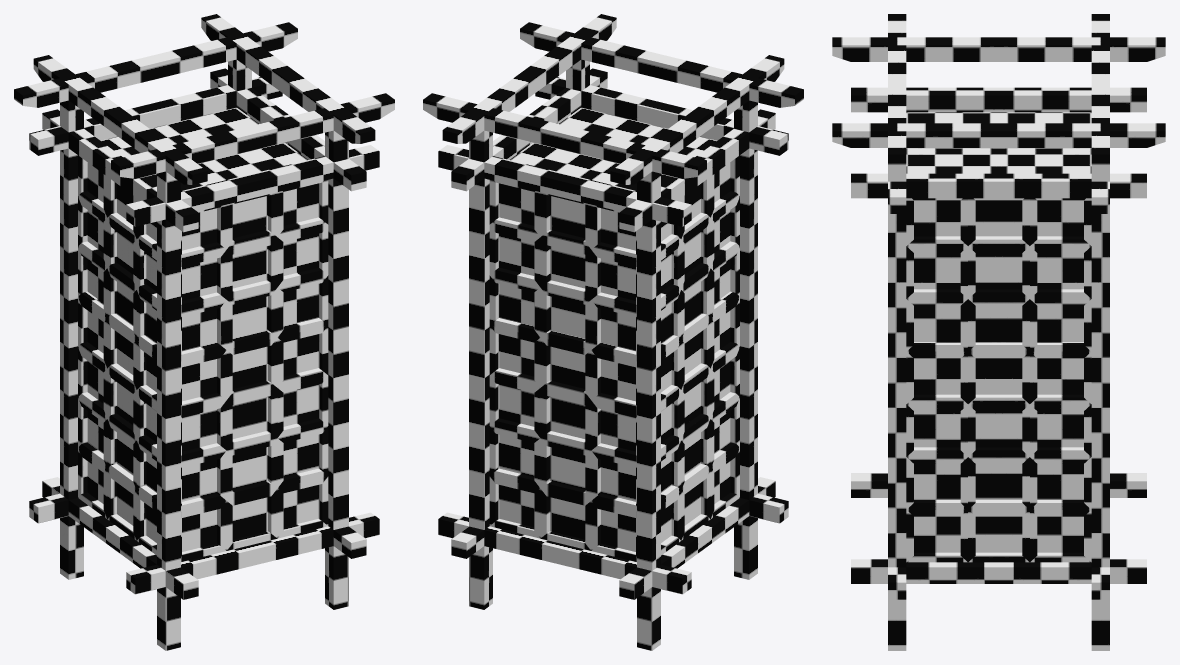
File: Japanese Lamp.obj
3 renders of one model, left to right at view 1: azimuth 30°, elevation 25°; view 2: azimuth 150°, elevation 25°; view 3: azimuth 270°, elevation 25°, orthographic. The views are drawn at different scales.
Parts seen in each view (by area): view 1: Box001; view 2: Box001; view 3: Box001.
Part boxes in pixels (bbox=[...]): Box001: bbox=[14, 14, 394, 650]; Box001: bbox=[423, 14, 803, 650]; Box001: bbox=[832, 14, 1165, 650].
Bounding box in the file's own units: 44.99 × 77.5 × 45.
Materials: 1 (1 with a texture image).
